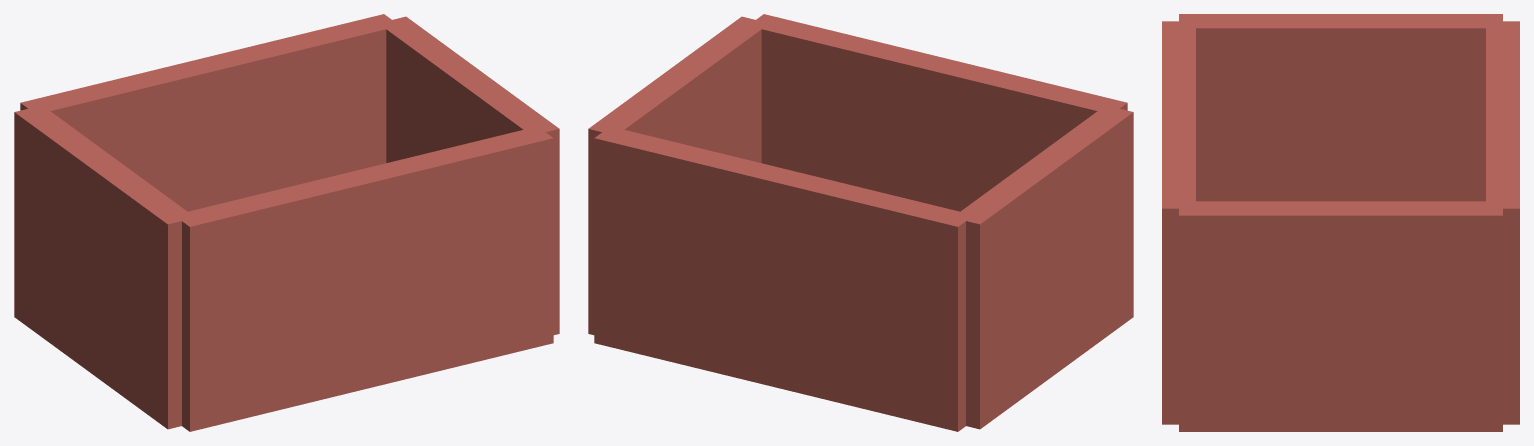
The model's file is crate2.glb.
3 renders of one model, left to right at view 1: azimuth 30°, elevation 25°; view 2: azimuth 150°, elevation 25°; view 3: azimuth 270°, elevation 25°, orthographic. The views are drawn at different scales.
Parts seen in each view (by area): view 1: NC_crate2; view 2: NC_crate2; view 3: NC_crate2.
Boxes of the visible parts, x1,y1,x2,y2 form: NC_crate2: (14, 14, 559, 431); NC_crate2: (588, 14, 1133, 431); NC_crate2: (1162, 14, 1519, 431).
Bounding box in the file's own units: 0.56 × 0.28 × 0.42.
